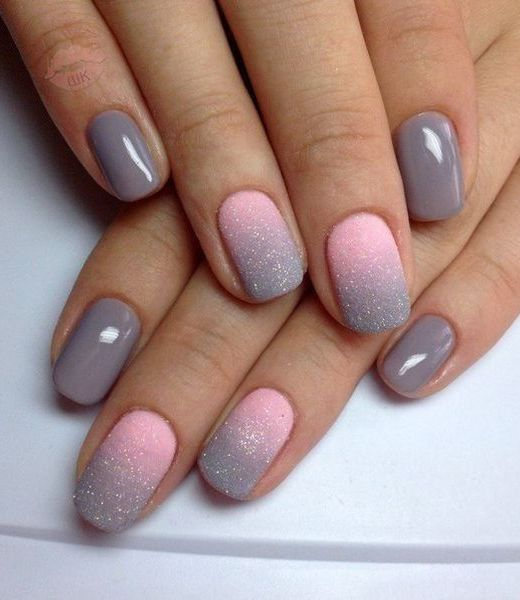nails: (72, 404, 181, 538), (191, 384, 299, 502), (211, 183, 308, 307), (320, 206, 411, 338), (52, 292, 144, 411), (388, 105, 468, 228), (77, 102, 160, 206), (371, 311, 464, 399)
